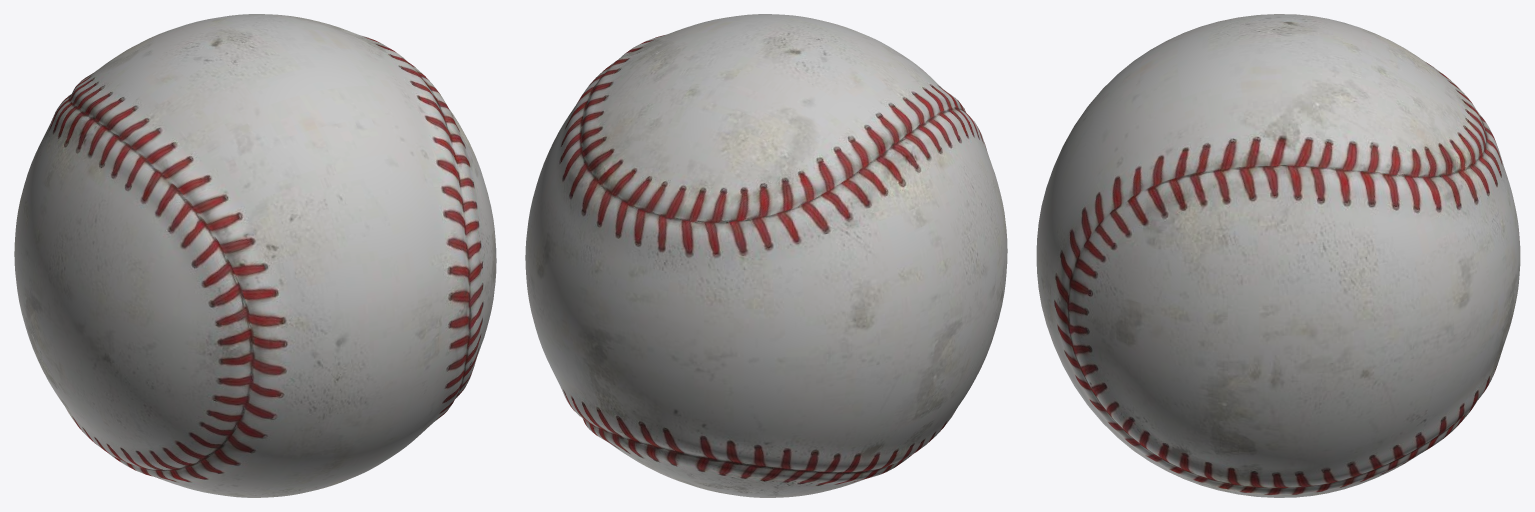
Rendered from baseball.glb.
3 views of the same model, side by side, from view 1: azimuth 30°, elevation 25°; view 2: azimuth 150°, elevation 25°; view 3: azimuth 270°, elevation 25° (orthographic).
Parts seen in each view (by area): view 1: baseball_01; view 2: baseball_01; view 3: baseball_01.
Boxes of the visible parts, box(x1,y1,x2,y2) form: baseball_01: box(14, 14, 496, 497); baseball_01: box(525, 14, 1007, 497); baseball_01: box(1036, 14, 1520, 497).
Size of the model in its own units: 0.0735 by 0.0753 by 0.0752.
Materials: 1 (1 with a texture image).
